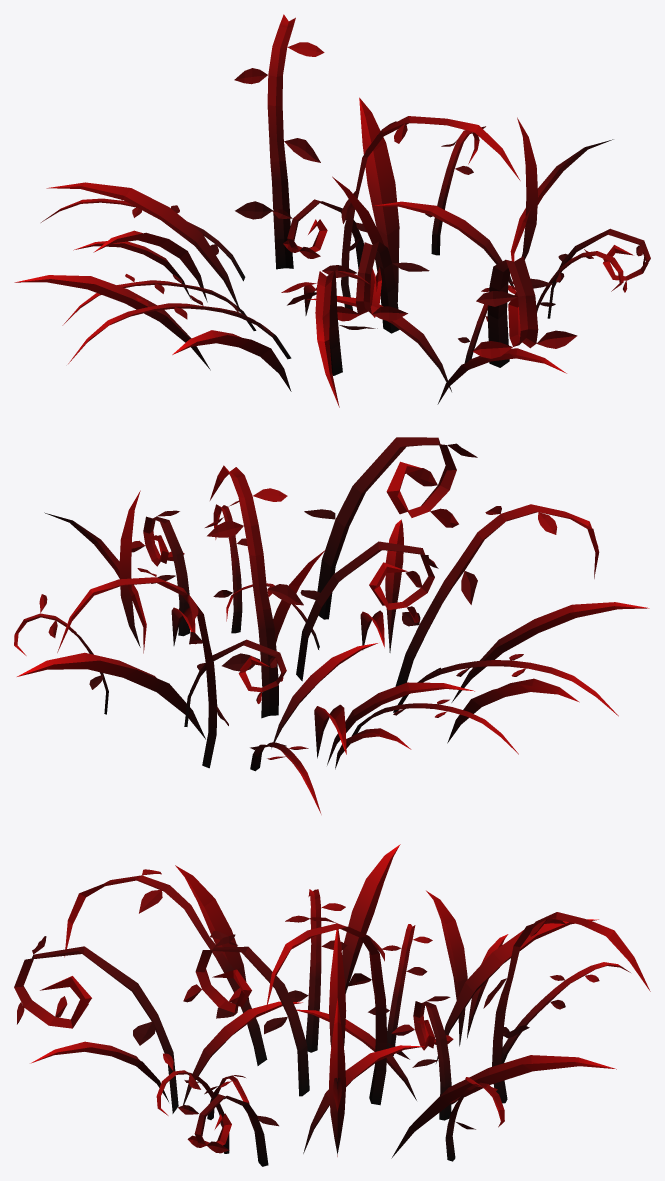
File: grass02-2 1.fbx
3 views of the same model, one above another, from view 1: azimuth 30°, elevation 25°; view 2: azimuth 150°, elevation 25°; view 3: azimuth 270°, elevation 25° (orthographic).
Parts seen in each view (by area): view 1: grass02-5, Plane.001; view 2: grass02-5, Plane.001; view 3: grass02-5, Plane.001.
Part boxes in pixels (x1,y1,x2,y2): grass02-5: (41, 14, 650, 407); Plane.001: (14, 97, 613, 404); grass02-5: (14, 437, 618, 814); Plane.001: (17, 490, 649, 769); grass02-5: (14, 869, 650, 1166); Plane.001: (30, 844, 616, 1158).
Bounding box in the file's own units: 411 × 161 × 403.
